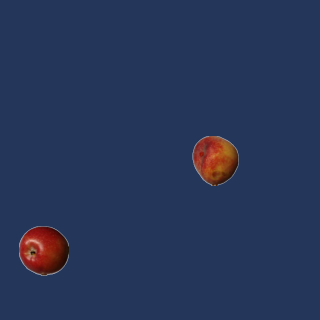Apple Braeburn: (18, 225, 68, 275)
Peach: (190, 135, 240, 185)
